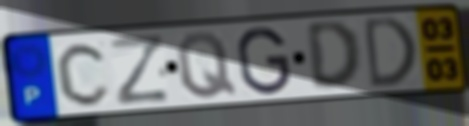C: (53, 39, 113, 109)
D: (303, 18, 365, 93), (361, 13, 419, 92)
G: (234, 25, 294, 98)
Q: (173, 29, 240, 101)
Z: (107, 32, 172, 109)
